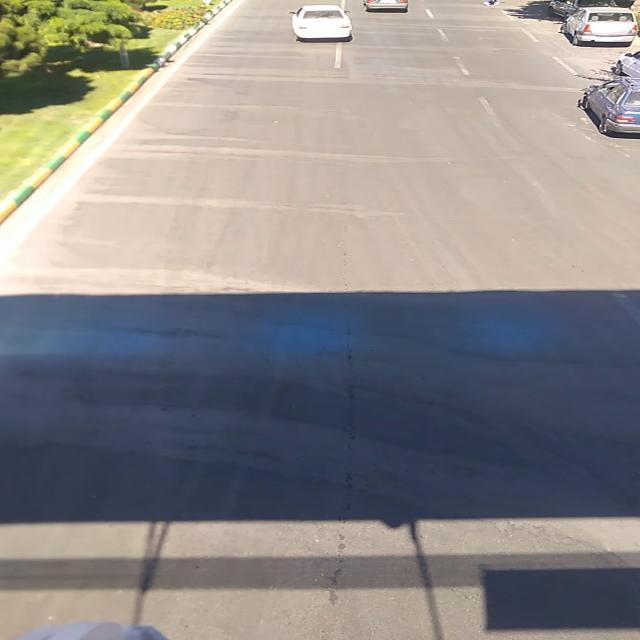car: (574, 77, 639, 135), (560, 8, 638, 44), (284, 5, 358, 39)
